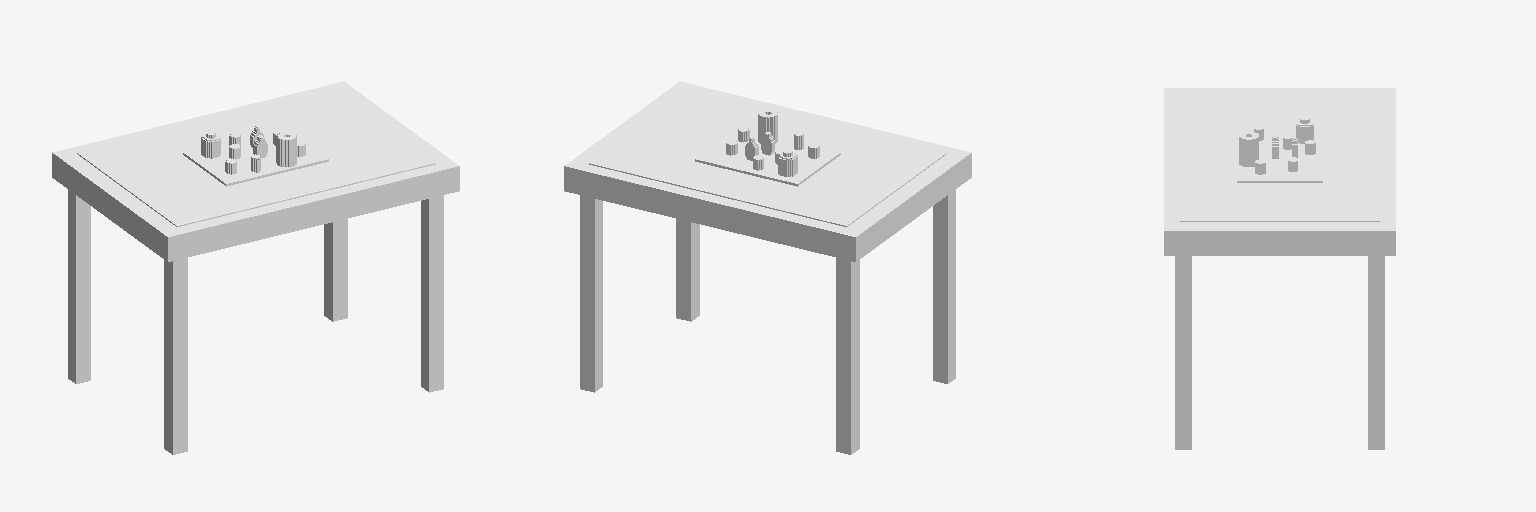
File: MesaComTempero.obj
3 views of the same model, side by side, from view 1: azimuth 30°, elevation 25°; view 2: azimuth 150°, elevation 25°; view 3: azimuth 270°, elevation 25° (orthographic).
Parts seen in each view (by area): view 1: object 1; view 2: object 1; view 3: object 1.
Part boxes in pixels (bbox=[...]): object 1: bbox=[52, 81, 459, 454]; object 1: bbox=[564, 81, 971, 454]; object 1: bbox=[1164, 88, 1395, 449].
Bounding box in the file's own units: 25.6 × 21.4 × 17.6.